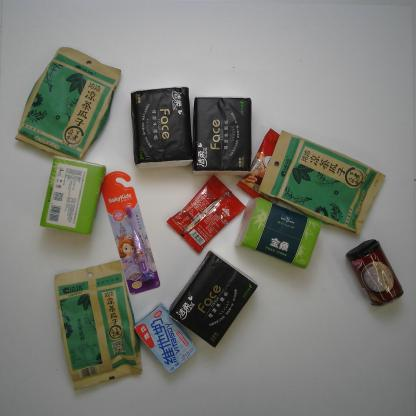Canned Food: (344, 239, 404, 308)
Dried Food: (260, 130, 387, 234), (14, 46, 122, 162), (53, 259, 144, 393)
Instant Drink: (167, 176, 246, 254), (236, 127, 280, 203)
Milk: (134, 303, 196, 372)
Personal Hygiene: (99, 171, 160, 294)
Tissue: (168, 250, 258, 348), (235, 196, 322, 268), (39, 153, 107, 235), (129, 86, 193, 169), (191, 96, 252, 174)
